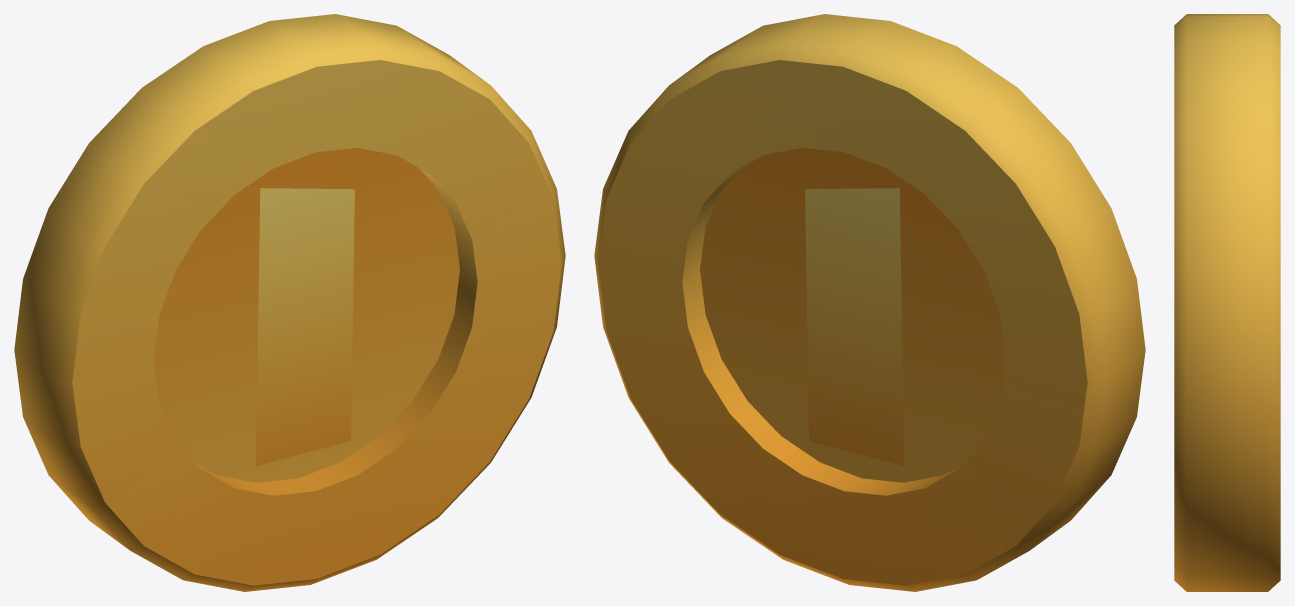
The model's file is SM_Coin.fbx.
3 renders of one model, left to right at view 1: azimuth 30°, elevation 25°; view 2: azimuth 150°, elevation 25°; view 3: azimuth 270°, elevation 25°, orthographic.
Parts seen in each view (by area): view 1: SM_Coin; view 2: SM_Coin; view 3: SM_Coin.
Boxes of the visible parts, box(x1,y1,x2,y2) form: SM_Coin: box(14, 14, 565, 591); SM_Coin: box(594, 14, 1145, 591); SM_Coin: box(1174, 14, 1280, 591).
Bounding box in the file's own units: 0.54 × 0.54 × 0.0993.
